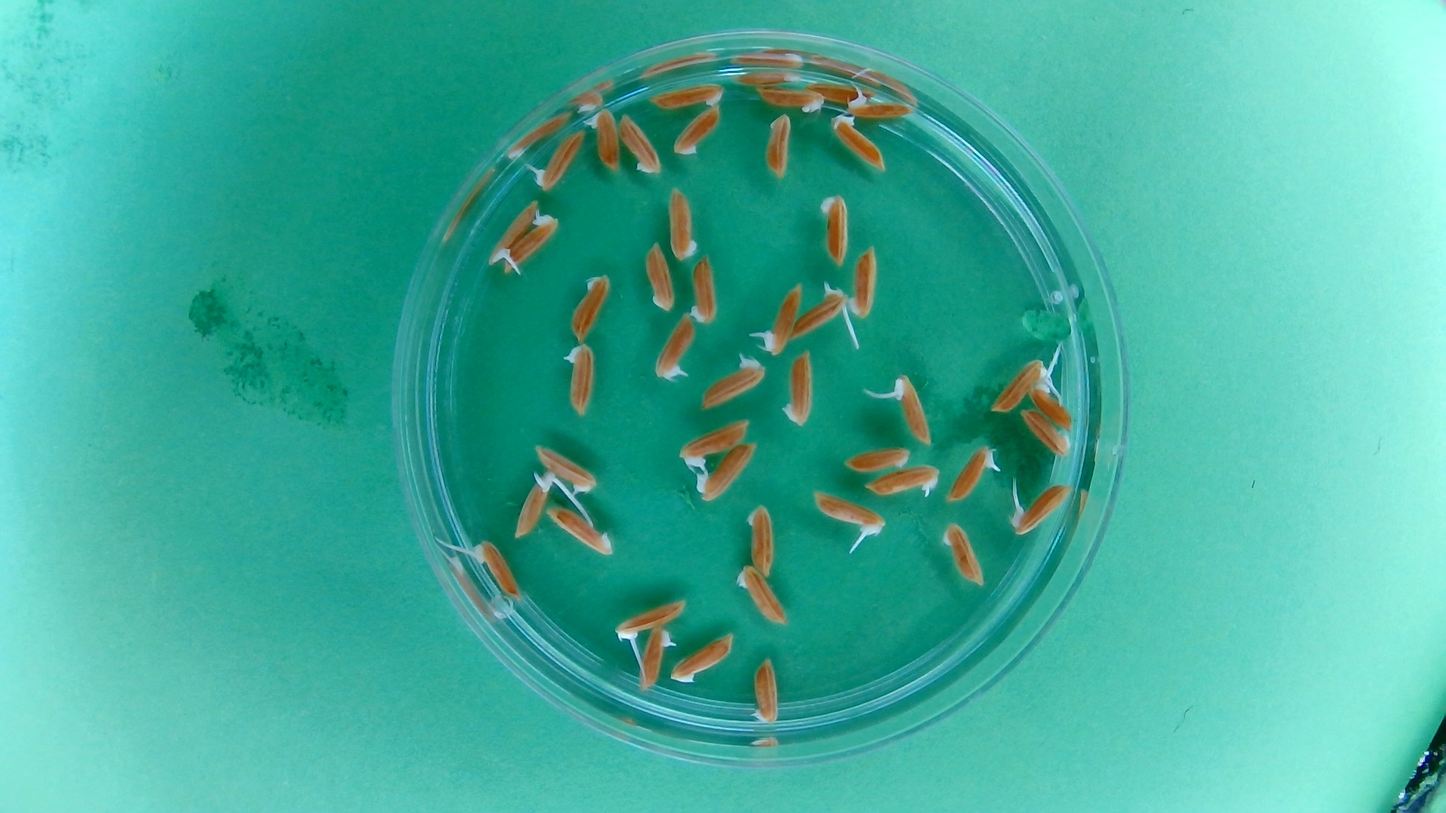no: (669, 630, 737, 686), (545, 504, 616, 557), (734, 562, 790, 626), (940, 519, 987, 590), (568, 271, 613, 343), (779, 347, 817, 430), (617, 111, 664, 178), (560, 340, 598, 419), (670, 104, 725, 158), (1017, 406, 1071, 459), (665, 184, 701, 263), (819, 190, 853, 269), (642, 239, 677, 314), (743, 502, 777, 579), (847, 245, 880, 321), (648, 81, 728, 112), (688, 252, 721, 326), (753, 83, 828, 114), (840, 444, 914, 475), (761, 111, 794, 180), (810, 77, 876, 102), (731, 65, 801, 85)
yes: (691, 440, 759, 502), (698, 354, 766, 411), (677, 416, 750, 467), (487, 198, 540, 267), (1008, 482, 1074, 536), (532, 442, 599, 495), (502, 212, 560, 273), (530, 128, 586, 191), (812, 489, 886, 536), (989, 358, 1051, 413), (471, 537, 523, 601), (792, 284, 850, 341), (830, 113, 886, 172), (946, 444, 999, 504), (615, 598, 687, 642), (652, 313, 696, 383), (759, 282, 801, 355), (891, 373, 932, 446), (864, 464, 943, 501), (513, 469, 554, 540), (584, 104, 623, 172), (637, 624, 675, 690), (749, 656, 783, 727), (1031, 385, 1081, 432), (844, 90, 914, 118)
